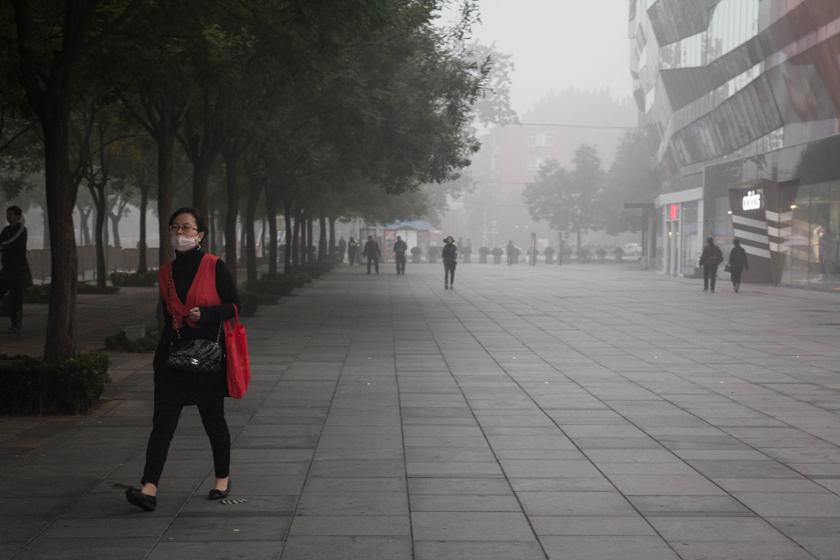person: (125, 206, 239, 511), (1, 205, 33, 335), (698, 237, 723, 294), (727, 238, 749, 293), (441, 236, 458, 291), (363, 235, 382, 275), (394, 236, 408, 276), (348, 236, 357, 267), (338, 235, 346, 264), (506, 239, 513, 266)
